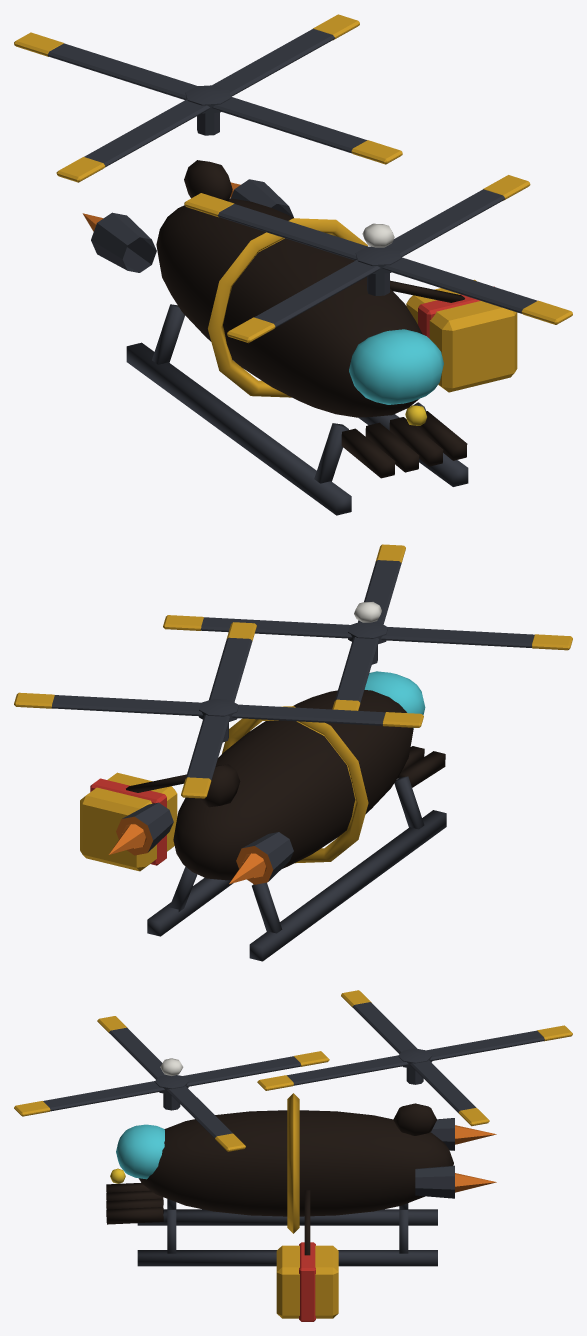
3 views of the same model, one above another, from view 1: azimuth 30°, elevation 25°; view 2: azimuth 150°, elevation 25°; view 3: azimuth 270°, elevation 25° (orthographic). The views are drawn at different scales.
Parts seen in each view (by area): view 1: heli_0_base, heli_1_torreta; view 2: heli_0_base, heli_1_torreta; view 3: heli_0_base, heli_1_torreta.
Part boxes in pixels (<box>): heli_0_base: <box>82,160,517,515</box>; heli_1_torreta: <box>14,14,572,343</box>; heli_0_base: <box>80,671,446,961</box>; heli_1_torreta: <box>14,544,572,798</box>; heli_0_base: <box>106,1093,496,1321</box>; heli_1_torreta: <box>14,990,572,1151</box>.
Size of the model in its own units: 1.19 by 0.755 by 1.97.
